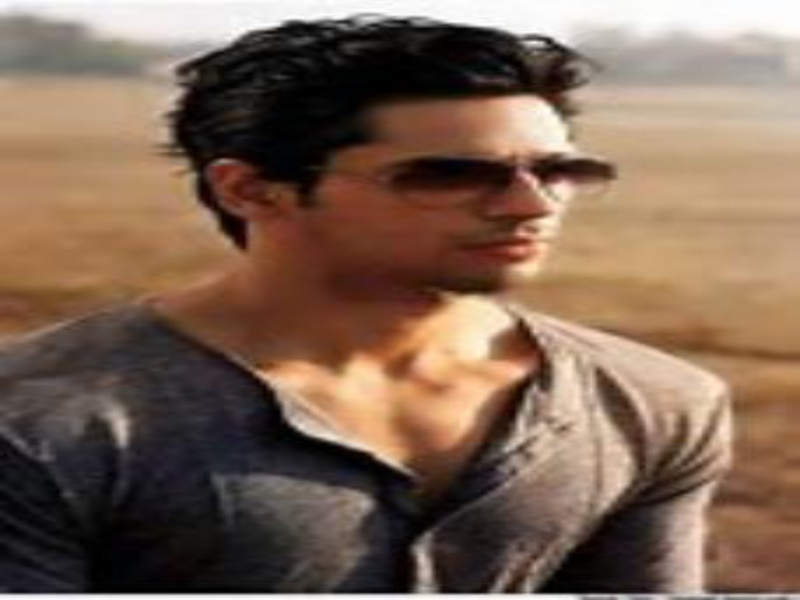TsisyArotava: (183, 27, 634, 323)
